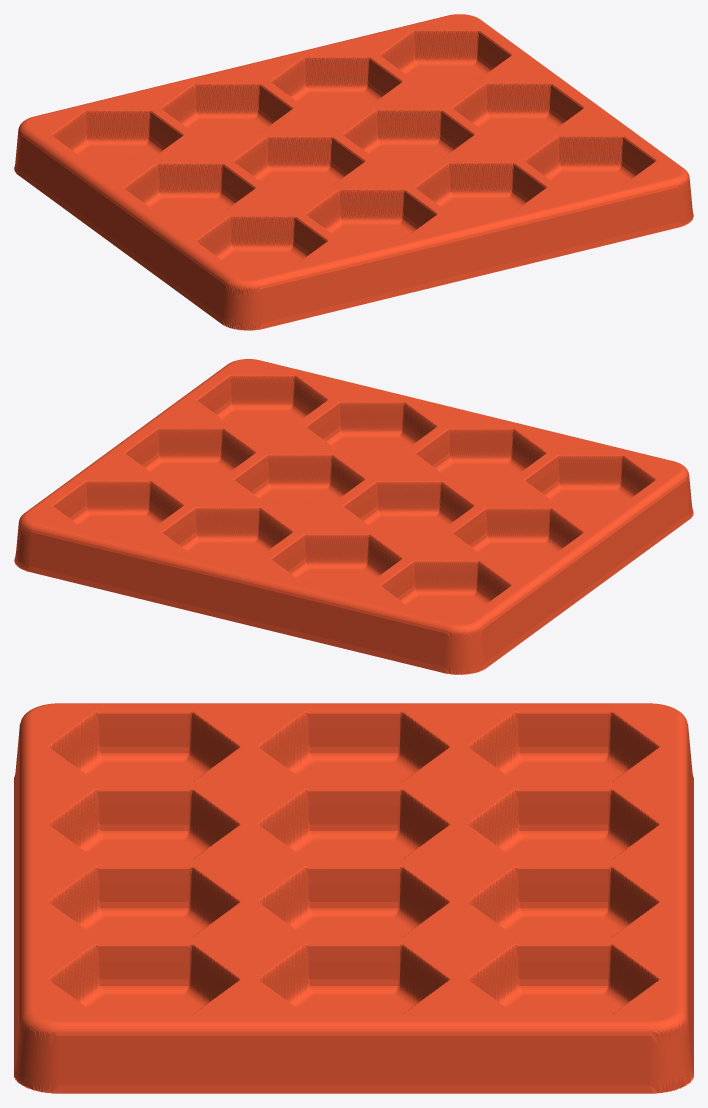
Rendered from mold.glb.
3 renders of one model, top to bottom at view 1: azimuth 30°, elevation 25°; view 2: azimuth 150°, elevation 25°; view 3: azimuth 270°, elevation 25°, orthographic. The views are drawn at different scales.
Parts seen in each view (by area): view 1: geometry_0; view 2: geometry_0; view 3: geometry_0.
Part boxes in pixels (left/top/right/bottom): geometry_0: left=14, top=14, right=693, bottom=330; geometry_0: left=14, top=359, right=693, bottom=674; geometry_0: left=14, top=703, right=693, bottom=1093.
Size of the model in its own units: 0.1586 by 0.0145 by 0.1374.
